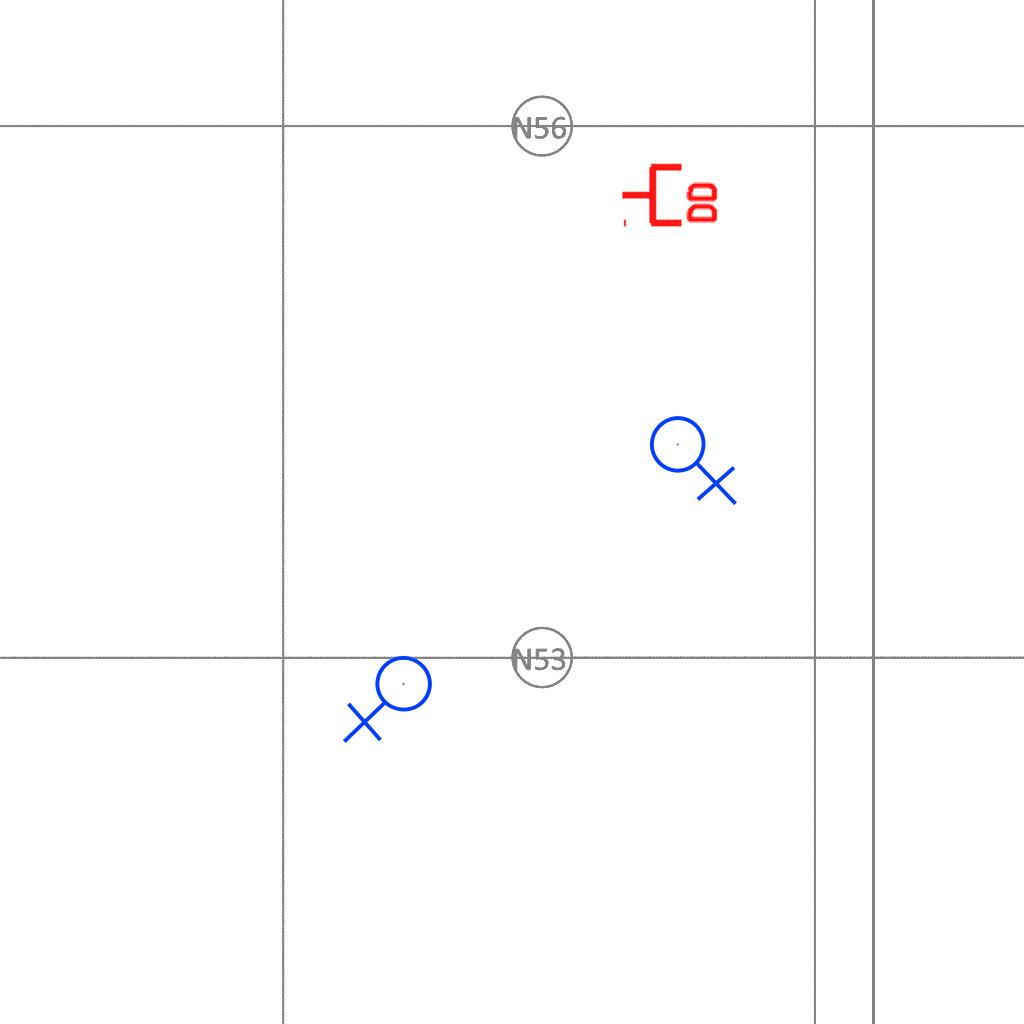Datenanschluss_zweifach: (619, 159, 722, 228)
Elektroanschluss_allgemein_230V_Geraeteanschlussdose_230V: (648, 407, 742, 506), (342, 654, 441, 748)
